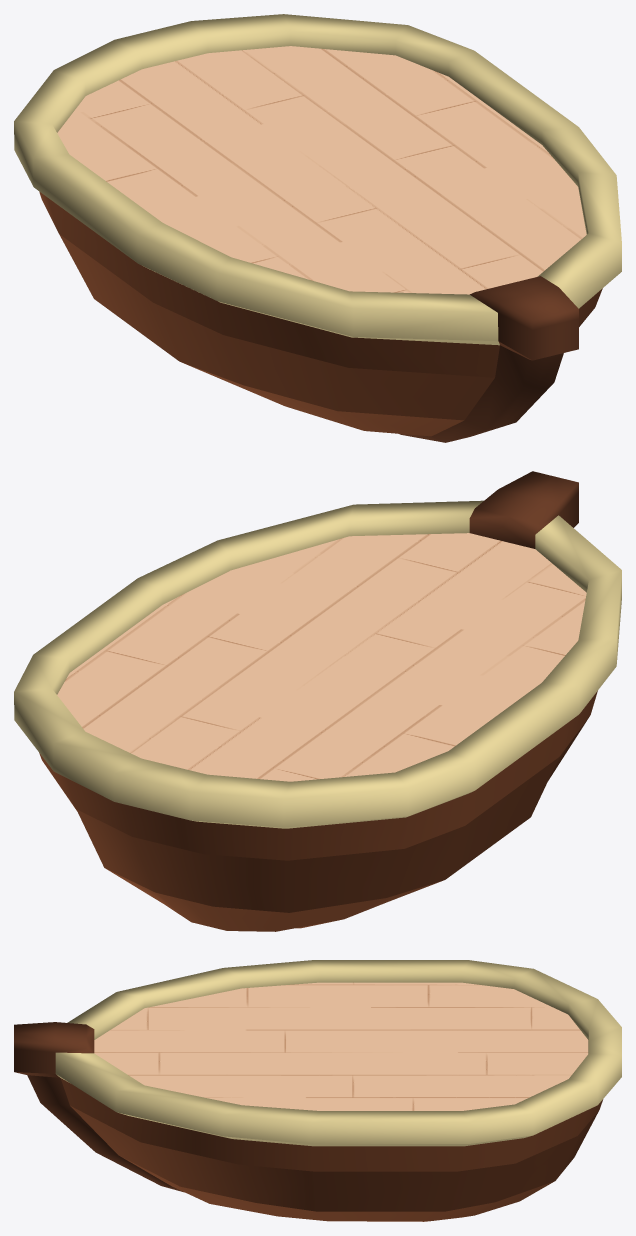
The model's file is sade.fbx.
The picture shows the model from 3 angles, top to bottom: view 1: azimuth 30°, elevation 25°; view 2: azimuth 150°, elevation 25°; view 3: azimuth 270°, elevation 25°; orthographic projection. The views are drawn at different scales.
Parts seen in each view (by area): view 1: mini_sade.001; view 2: mini_sade.001; view 3: mini_sade.001.
Boxes of the visible parts, <box> form: mini_sade.001: <box>14,14,621,442</box>; mini_sade.001: <box>14,471,621,931</box>; mini_sade.001: <box>14,960,621,1221</box>.
Bounding box in the file's own units: 258 × 131 × 408.
4 materials, 1 textured.
